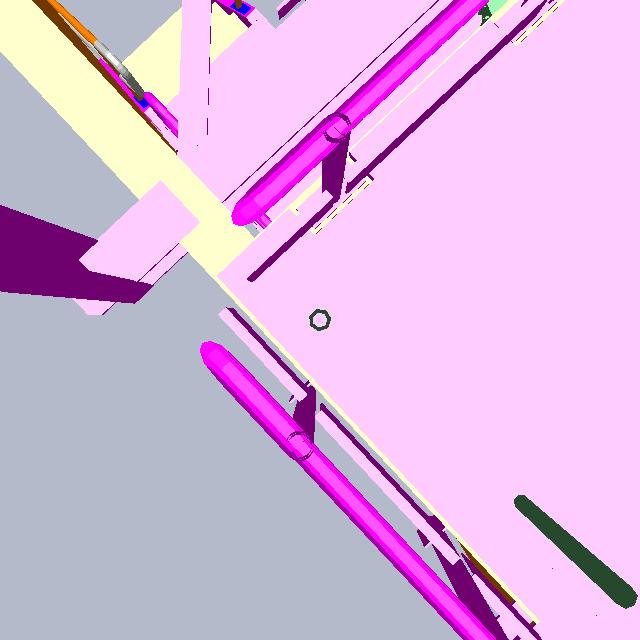Poste: (298, 304, 335, 339)
Soporte: (1, 182, 203, 332)
